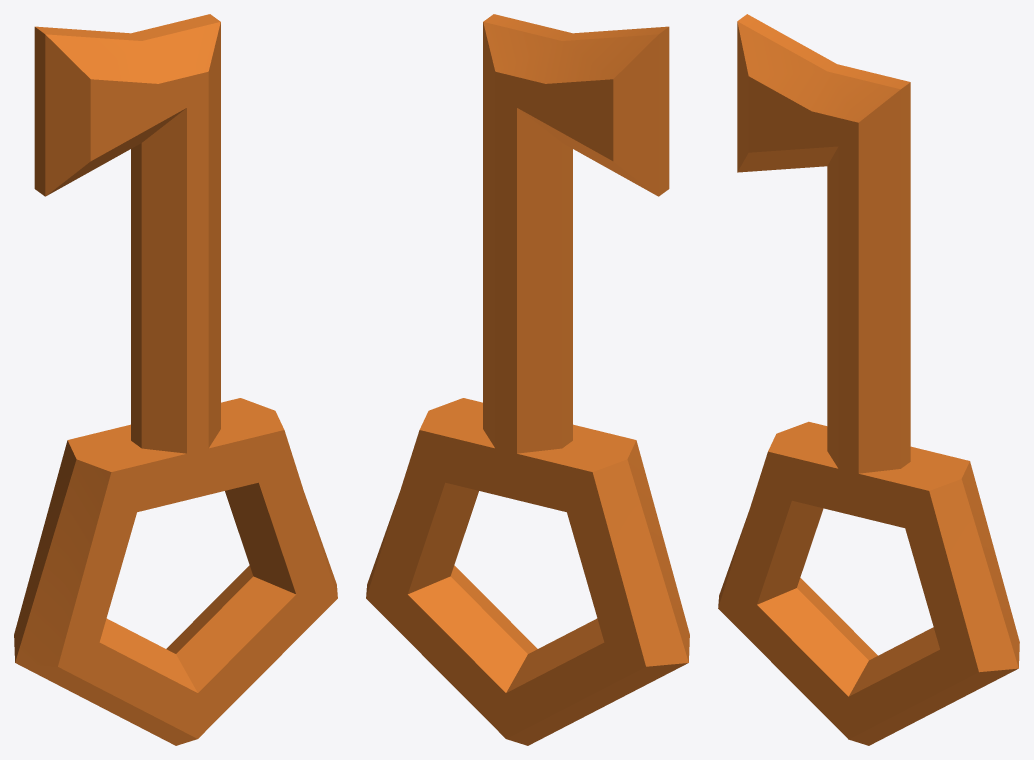
Rendered from key.fbx.
3 renders of one model, left to right at view 1: azimuth 30°, elevation 25°; view 2: azimuth 150°, elevation 25°; view 3: azimuth 330°, elevation 25°, orthographic. The views are drawn at different scales.
Parts seen in each view (by area): view 1: Key; view 2: Key; view 3: Key.
Part boxes in pixels (x1=…): Key: x1=14, y1=14, x2=337, y2=745; Key: x1=366, y1=14, x2=689, y2=745; Key: x1=718, y1=14, x2=1019, y2=745.
Bounding box in the file's own units: 30.94 × 68.8 × 7.31.
